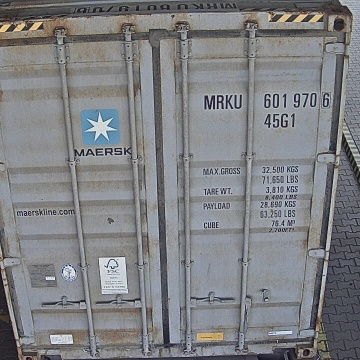serial_id: (204, 92, 331, 109)
